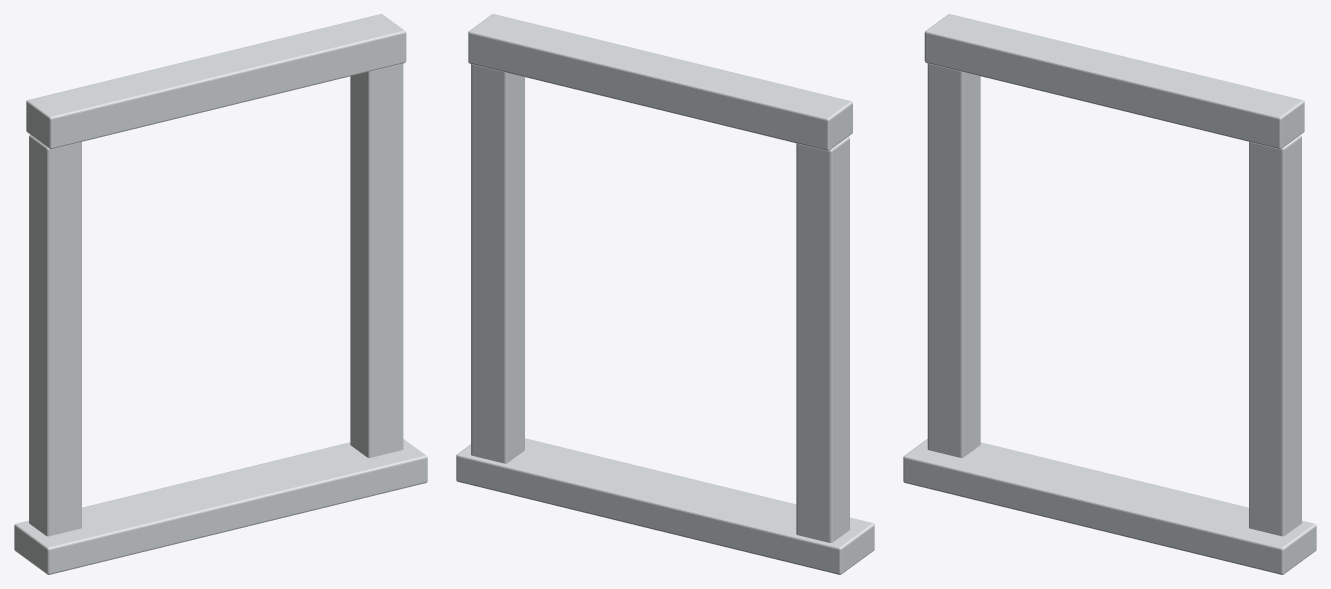
The model's file is window-surround.glb.
3 renders of one model, left to right at view 1: azimuth 30°, elevation 25°; view 2: azimuth 150°, elevation 25°; view 3: azimuth 330°, elevation 25°, orthographic.
Visible parts, largest first — view 1: Window stone sill, Window surround jamb.001, Window surround jamb, Window head lintel; view 2: Window stone sill, Window surround jamb, Window head lintel, Window surround jamb.001; view 3: Window stone sill, Window surround jamb, Window surround jamb.001, Window head lintel.
Boxes of the visible parts, left/top/right/bottom form: Window stone sill: left=14, top=439, right=427, bottom=574; Window surround jamb.001: left=350, top=63, right=403, bottom=457; Window surround jamb: left=29, top=135, right=81, bottom=536; Window head lintel: left=26, top=14, right=406, bottom=149; Window stone sill: left=456, top=438, right=874, bottom=574; Window surround jamb: left=796, top=136, right=849, bottom=542; Window head lintel: left=468, top=14, right=852, bottom=150; Window surround jamb.001: left=471, top=64, right=524, bottom=463; Window stone sill: left=903, top=439, right=1316, bottom=574; Window surround jamb: left=927, top=63, right=980, bottom=457; Window surround jamb.001: left=1249, top=135, right=1301, bottom=536; Window head lintel: left=924, top=14, right=1304, bottom=149.
Size of the model in its own units: 1.6 by 1.8 by 0.25.
Materials: 1 (1 with a texture image).
